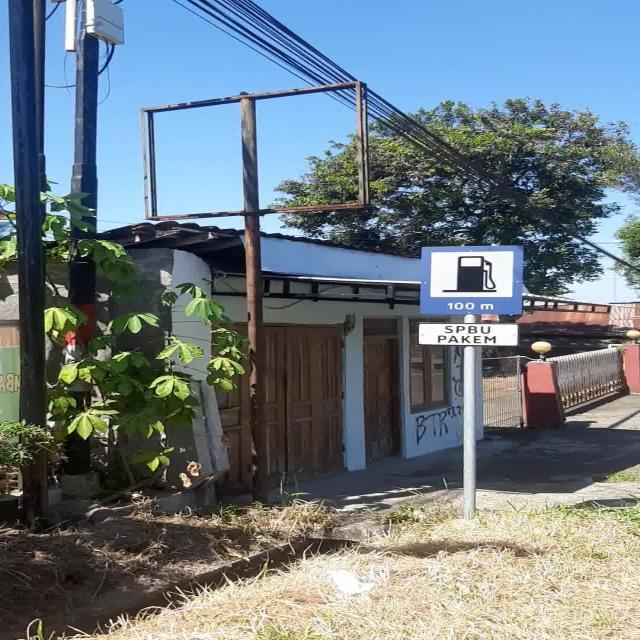Pom Bensin: (418, 246, 524, 315)
